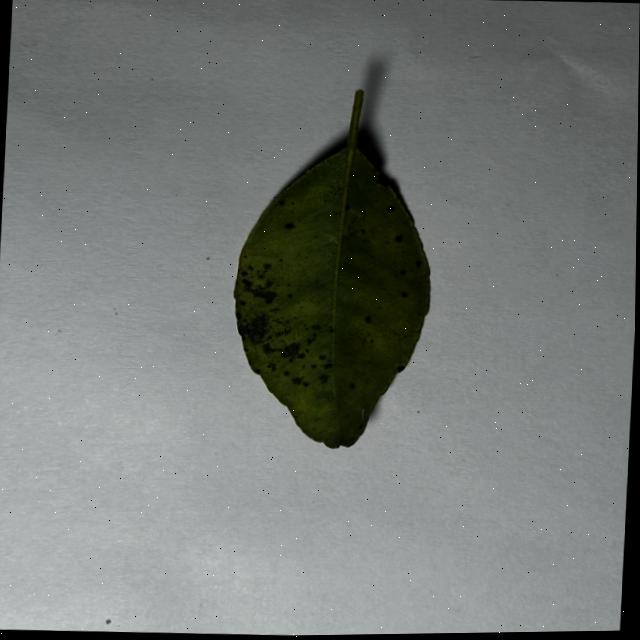sooty_mold: (233, 91, 428, 446)
